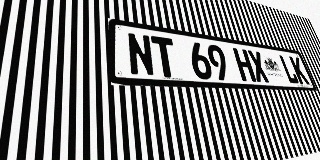6: (187, 41, 214, 80)
9: (206, 44, 231, 81)
H: (232, 48, 257, 82)
K: (289, 56, 310, 85)
L: (278, 55, 300, 84)
N: (126, 32, 155, 77)
T: (151, 36, 179, 78)
X: (247, 50, 270, 83)
